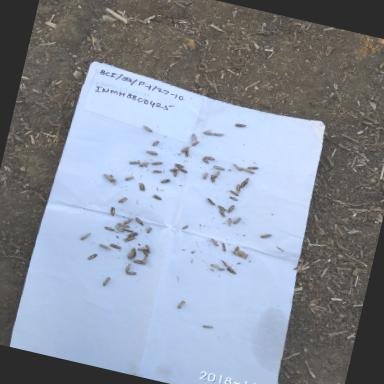pbw: (134, 182, 148, 194), (123, 234, 137, 246), (200, 322, 216, 332), (133, 216, 146, 228), (258, 230, 272, 241), (224, 265, 239, 275), (79, 230, 91, 242), (202, 128, 216, 138), (150, 192, 164, 202), (132, 256, 146, 266), (140, 124, 155, 133), (226, 203, 237, 215), (206, 196, 218, 207), (176, 298, 187, 310), (124, 173, 136, 184), (180, 144, 192, 155), (151, 158, 164, 168), (233, 182, 243, 195), (126, 158, 142, 166), (116, 221, 130, 230), (124, 269, 138, 278), (232, 215, 243, 226), (224, 216, 234, 228), (102, 276, 112, 288), (231, 162, 243, 172), (216, 204, 228, 214), (160, 176, 172, 186), (87, 252, 99, 262), (212, 164, 227, 172), (138, 160, 150, 170), (136, 244, 148, 254), (139, 255, 149, 267), (168, 166, 182, 174), (108, 242, 122, 250), (98, 243, 112, 251), (151, 139, 162, 149), (210, 237, 221, 247), (123, 217, 134, 227), (114, 224, 126, 233), (124, 262, 133, 274), (234, 122, 247, 130), (118, 195, 128, 205), (190, 132, 200, 142), (212, 170, 222, 180), (238, 180, 248, 190), (143, 244, 152, 255), (108, 206, 117, 217), (204, 155, 218, 162), (248, 164, 260, 172), (173, 162, 185, 170), (208, 262, 220, 270), (146, 148, 158, 156), (228, 189, 240, 197), (212, 131, 225, 138), (103, 225, 116, 232), (230, 245, 240, 254), (128, 230, 138, 239), (102, 174, 114, 181), (145, 226, 154, 235), (184, 148, 192, 158), (200, 156, 210, 164), (220, 242, 228, 252), (142, 248, 150, 258), (209, 174, 217, 184), (202, 170, 210, 180), (218, 210, 228, 218), (242, 168, 255, 174), (178, 168, 189, 175), (122, 228, 134, 234), (108, 174, 115, 184), (172, 170, 180, 178), (192, 140, 200, 148), (181, 224, 189, 232), (152, 168, 162, 174), (228, 196, 238, 202), (243, 176, 250, 184), (112, 178, 118, 186)
